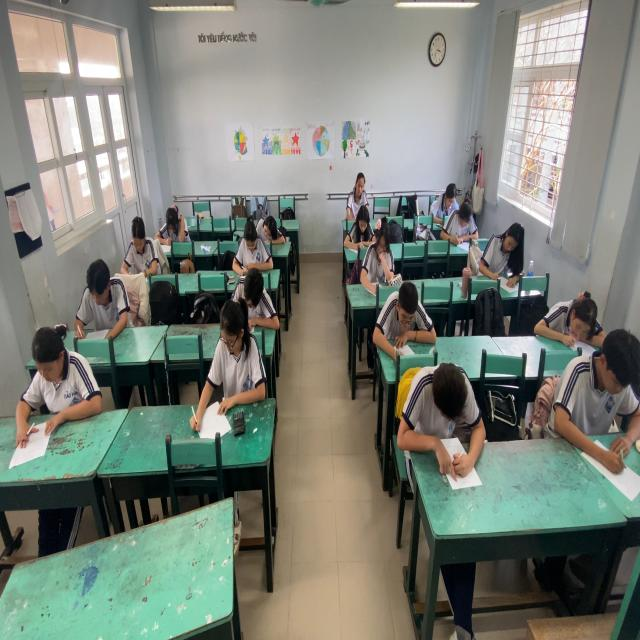not_cheating: (564, 323, 640, 488), (22, 316, 96, 430), (412, 358, 476, 473), (219, 295, 266, 412), (72, 258, 130, 342), (380, 270, 432, 360), (542, 284, 602, 346), (119, 215, 163, 288), (484, 216, 524, 282), (363, 218, 399, 286), (236, 266, 278, 324), (156, 197, 190, 248), (236, 220, 270, 266), (446, 198, 474, 250), (348, 200, 377, 244), (345, 169, 373, 213), (436, 177, 460, 221), (255, 208, 282, 246)
